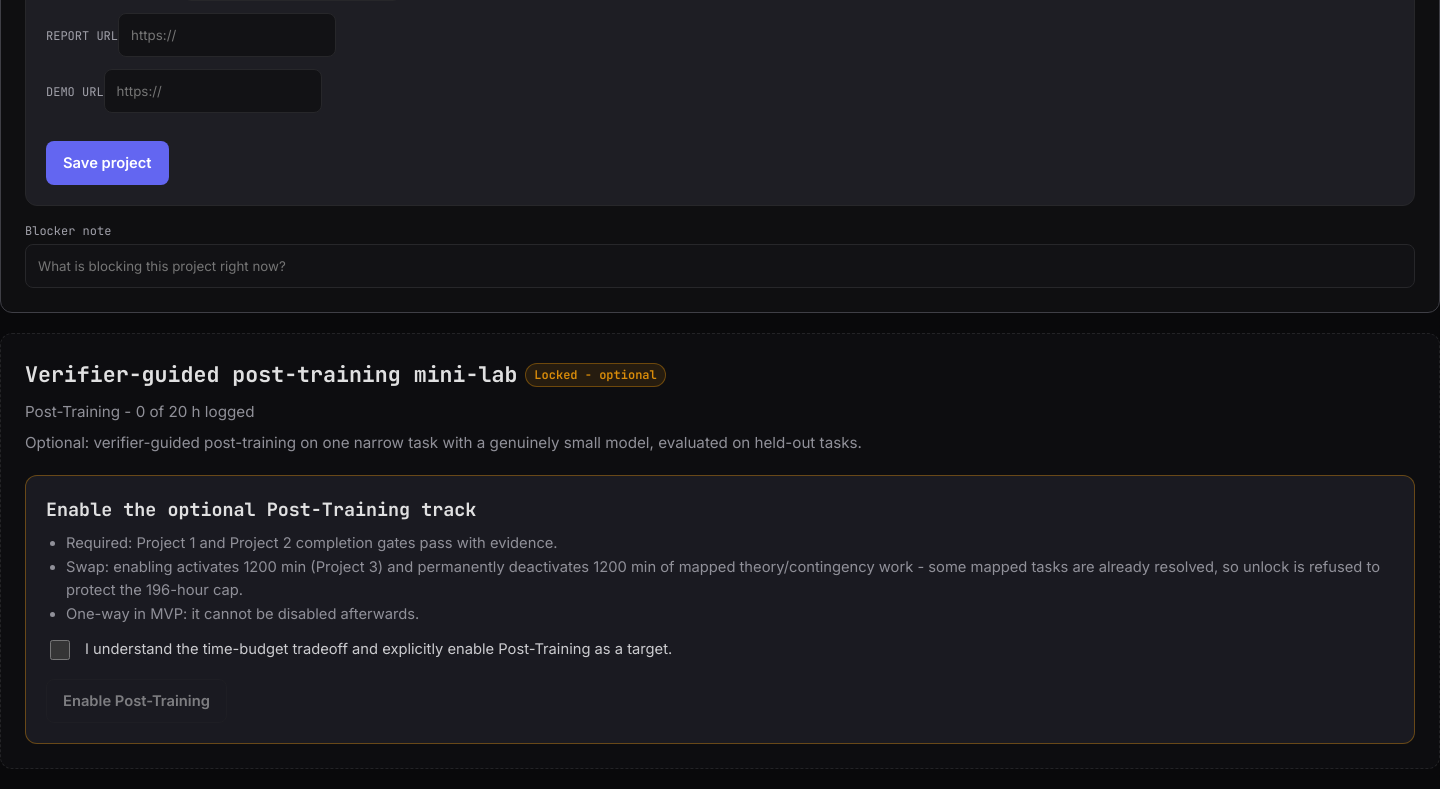
Test: ProjectsView › surfaces a friendly message when the server rejects the unlock
(page scrolled)
Check: the heading "Enable the optional Post-Training track" is shown, box [46, 497, 476, 522]
Click the checkbox labelled "explicitly enable Post-Training". click: [60, 650]
box: [50, 640, 70, 660]
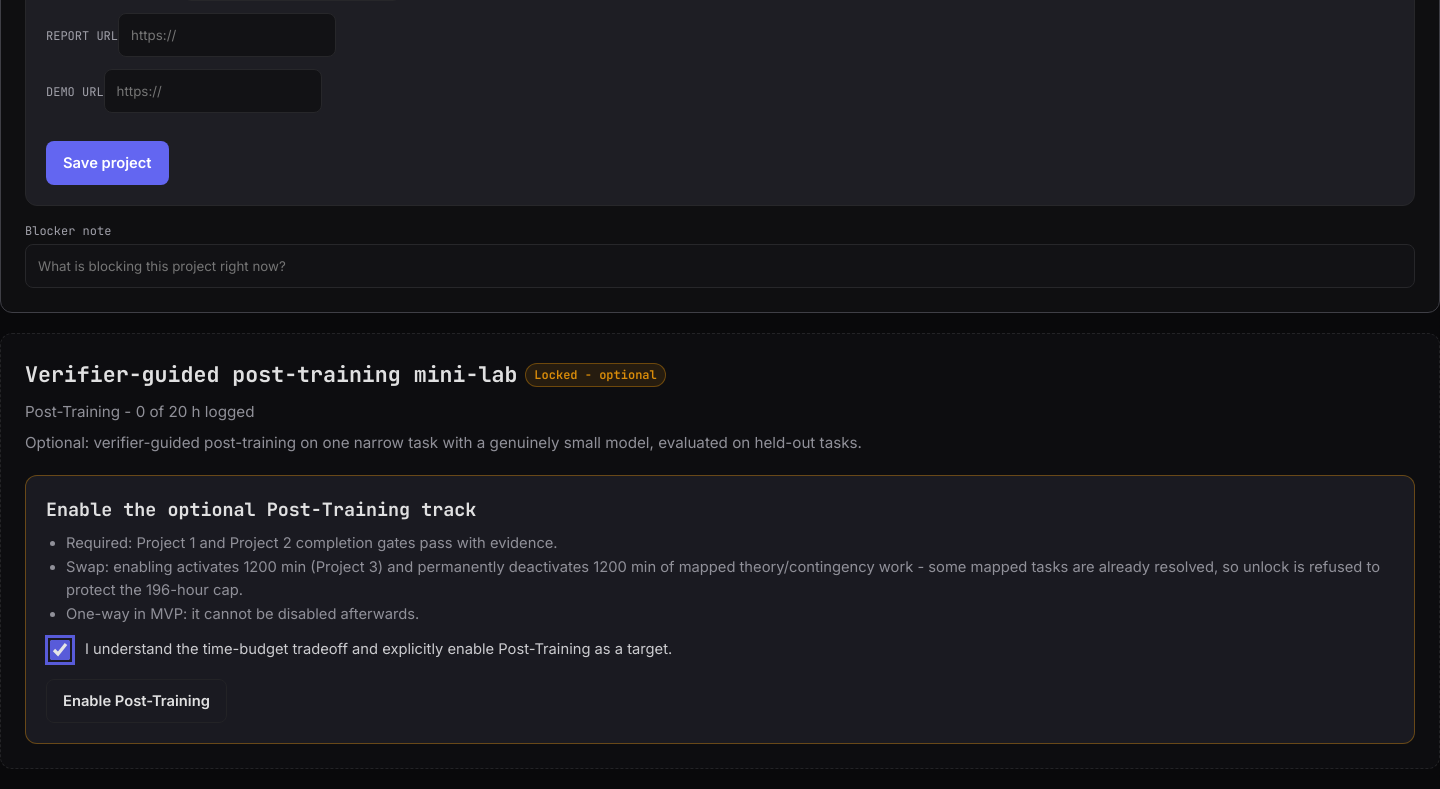
Click the button "Enable Post-Training". click: [136, 702]
box: [46, 680, 227, 724]
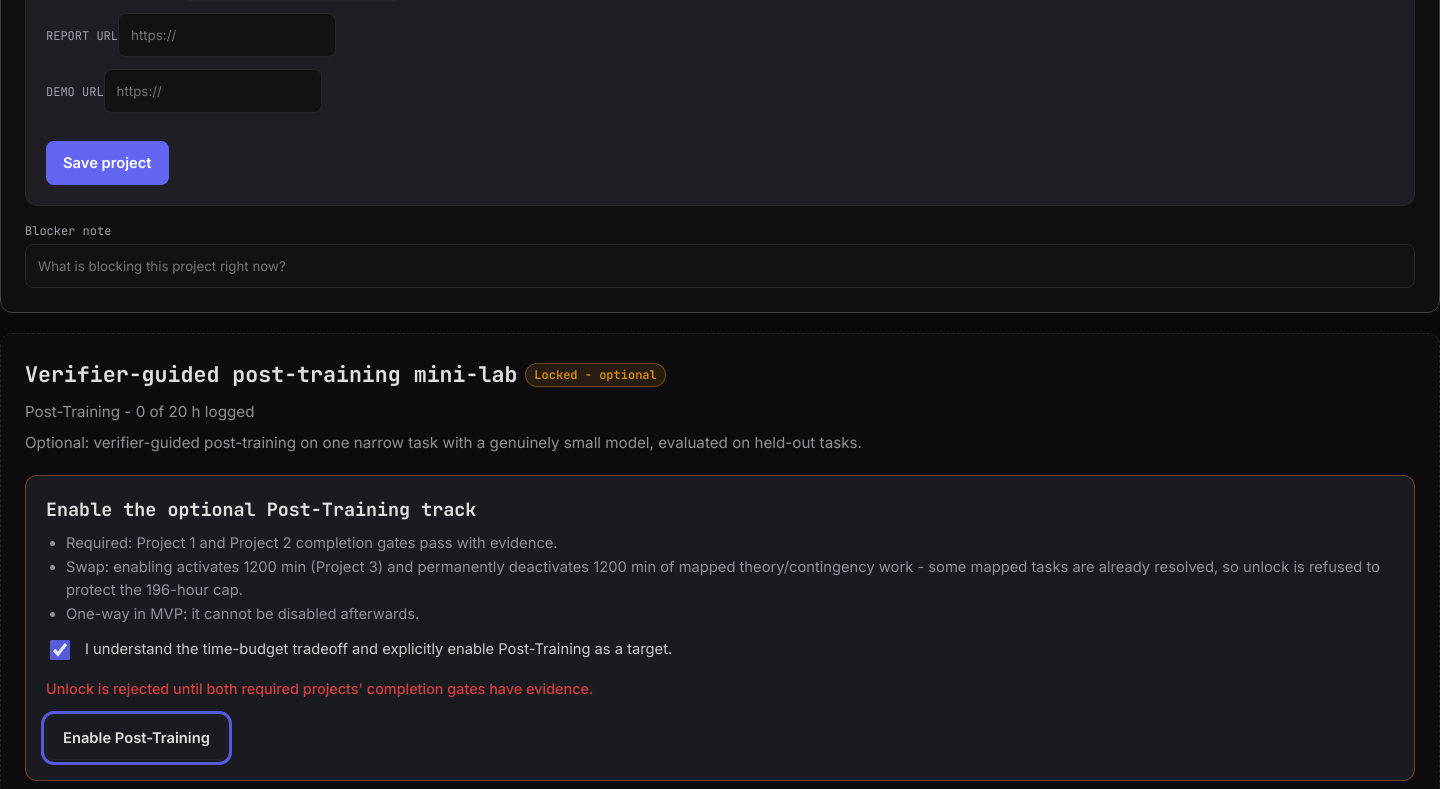
Check: the text "rejected until both required projects" is shown, box [46, 680, 593, 697]
